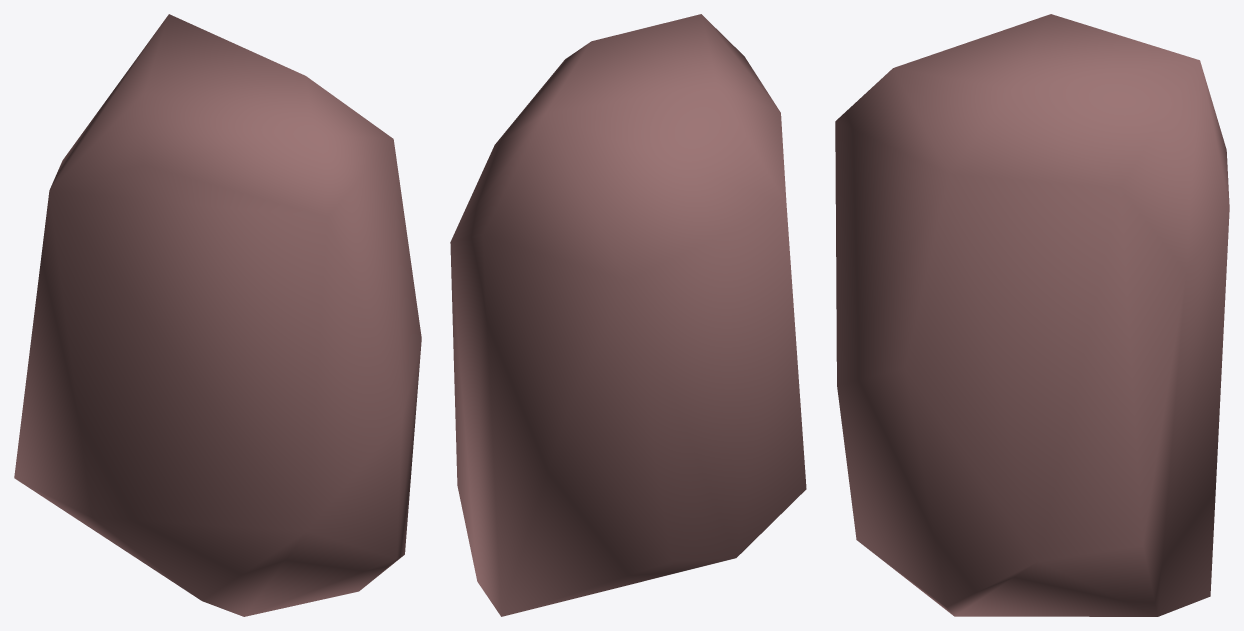
Rendered from small_rock_07.fbx.
The picture shows the model from 3 angles, left to right: view 1: azimuth 30°, elevation 25°; view 2: azimuth 150°, elevation 25°; view 3: azimuth 270°, elevation 25°; orthographic projection. The views are drawn at different scales.
Parts seen in each view (by area): view 1: small_rock_07; view 2: small_rock_07; view 3: small_rock_07.
Boxes of the visible parts, box(x1,y1,x2,y2) form: small_rock_07: box(14, 14, 421, 616); small_rock_07: box(450, 14, 806, 616); small_rock_07: box(835, 14, 1229, 616).
Bounding box in the file's own units: 27.57 × 45.53 × 31.19.
